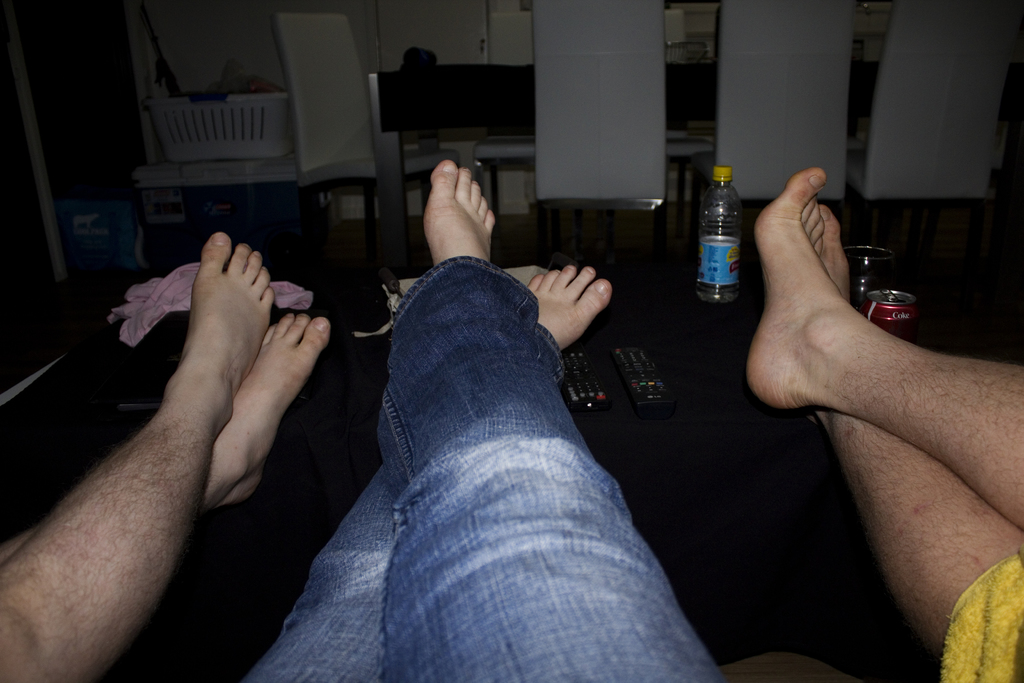Person: (239, 159, 723, 682), (0, 231, 331, 683), (743, 164, 1024, 683)
